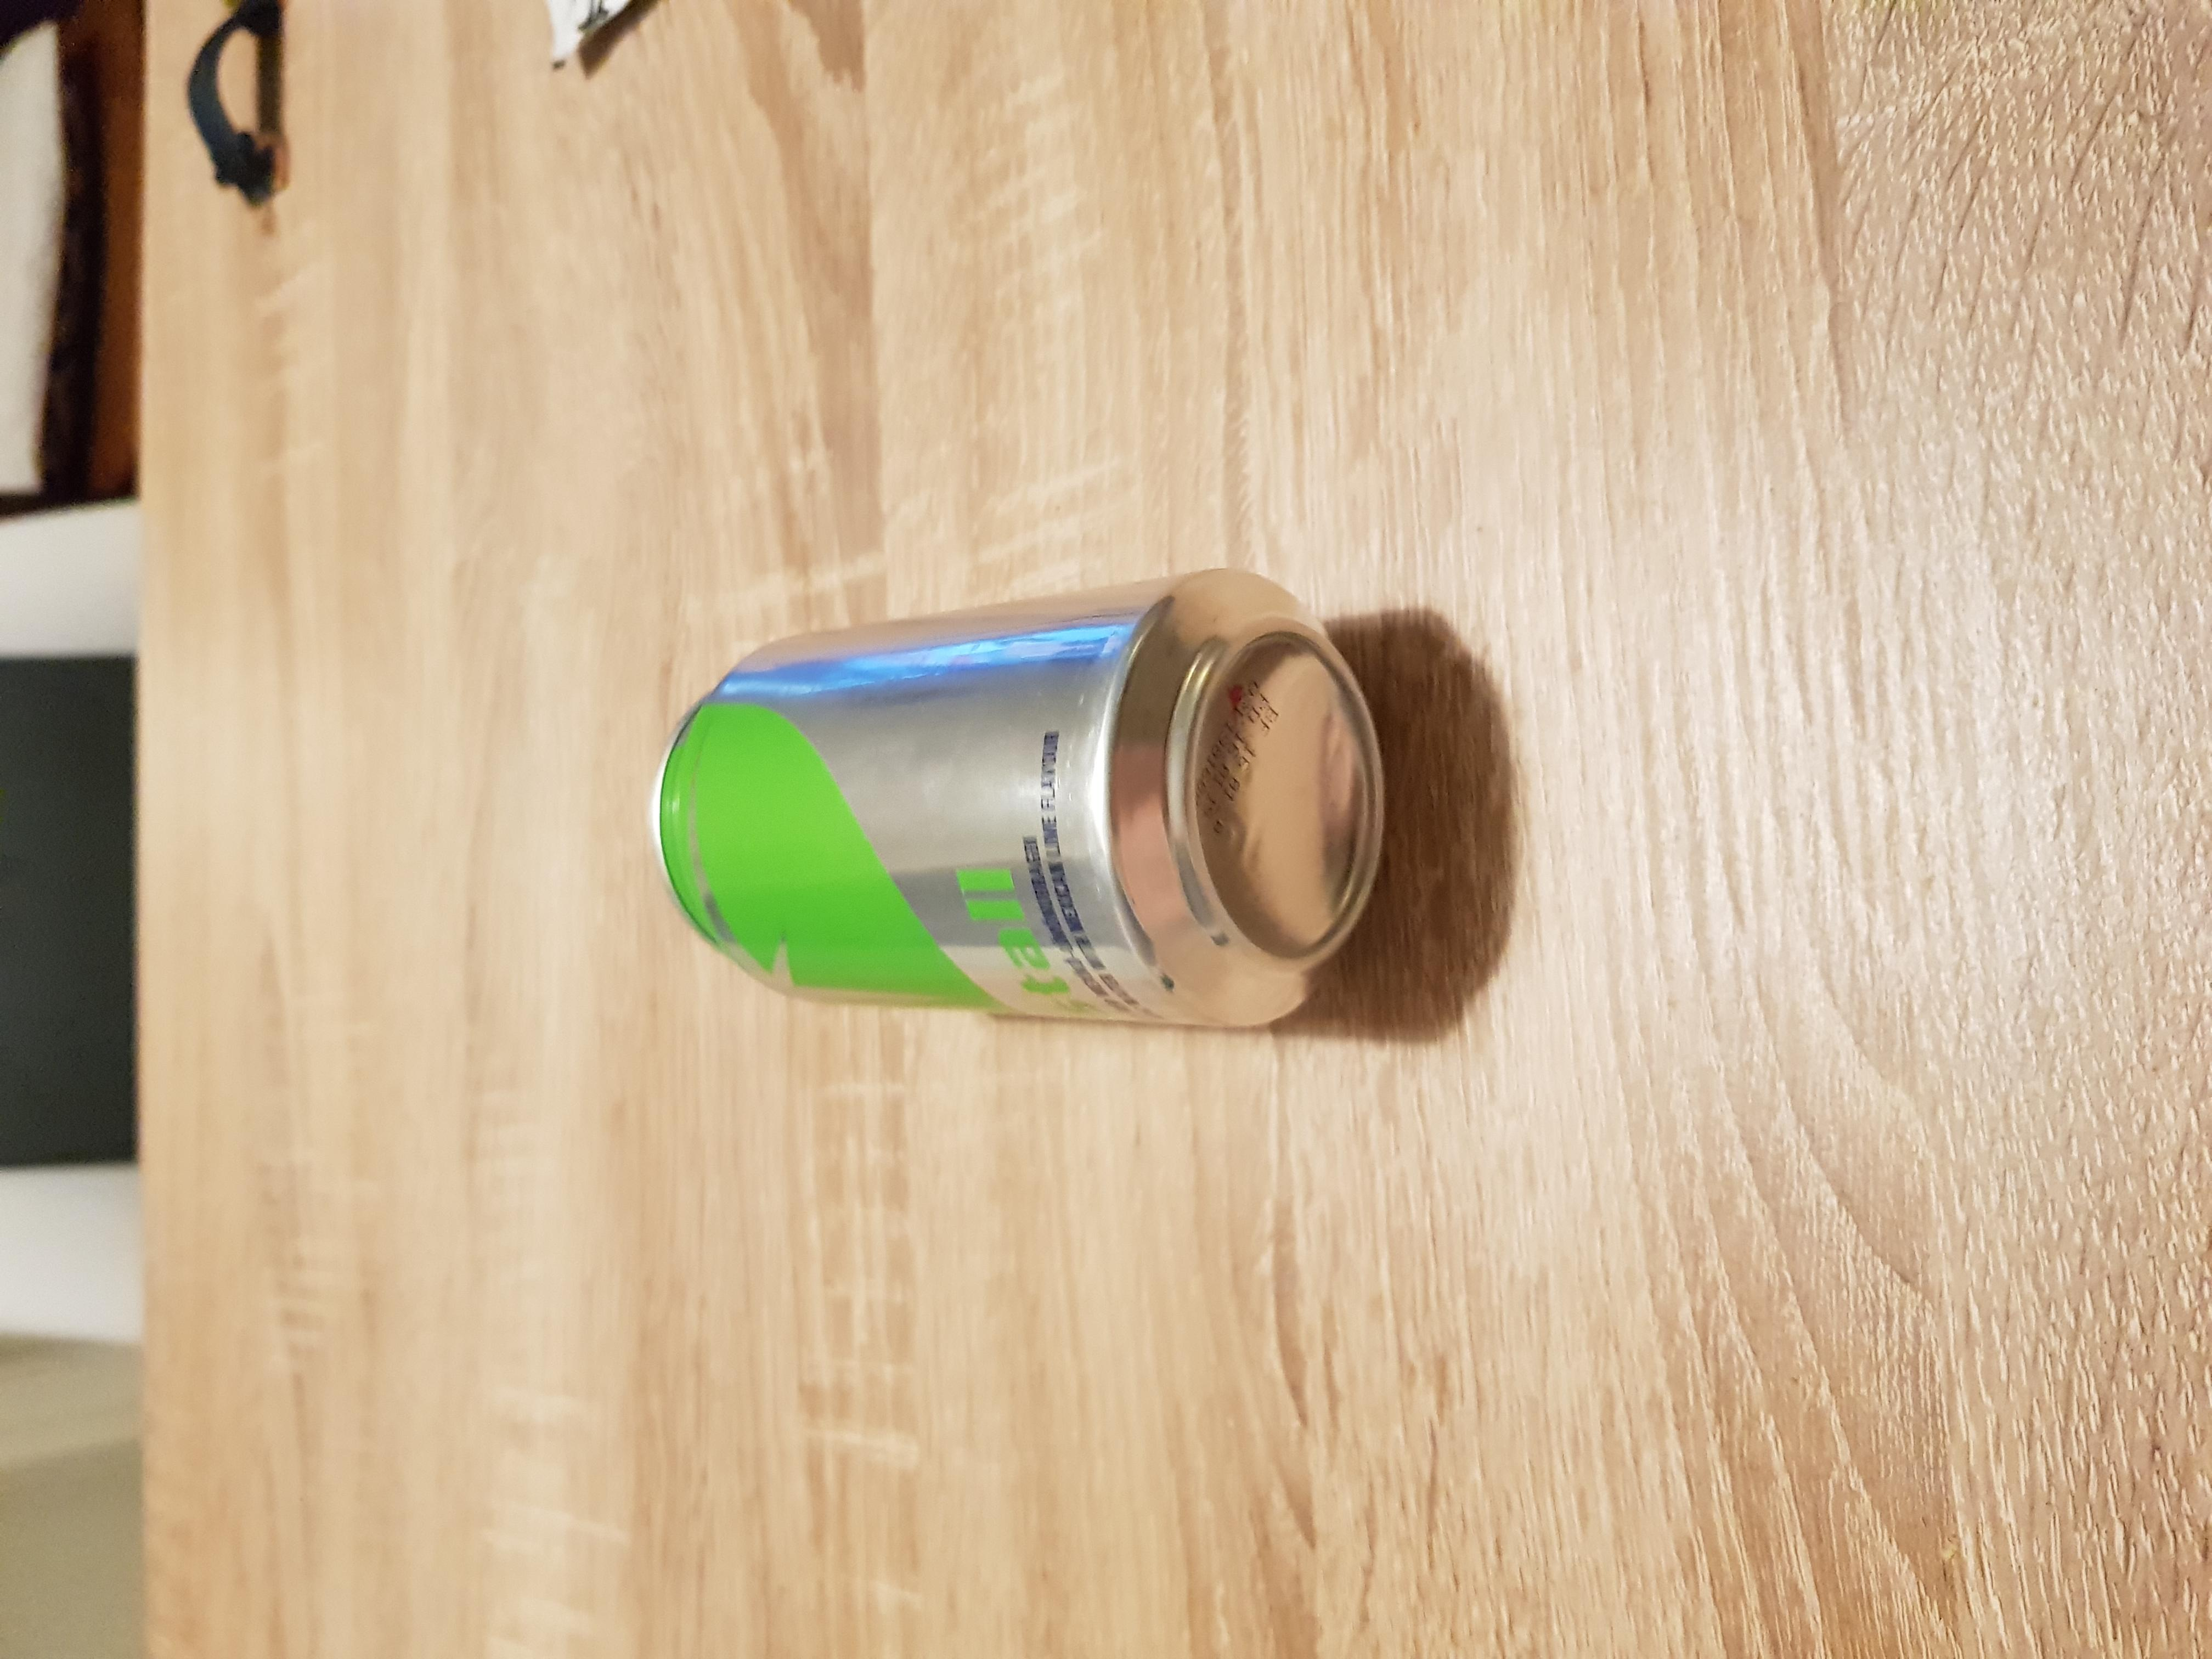can: (639, 558, 1393, 1033)
